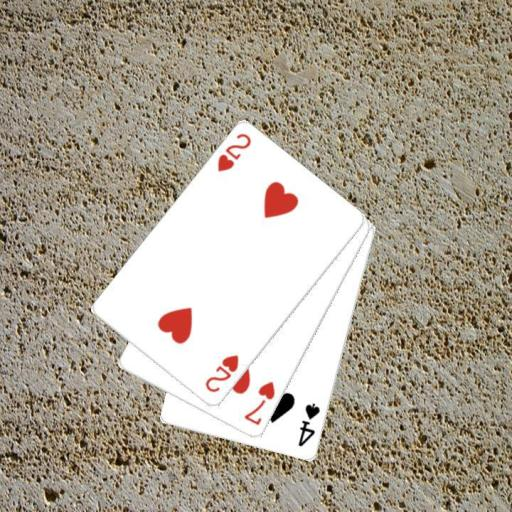2H: (214, 130, 253, 174), (202, 352, 241, 395)
4S: (295, 400, 322, 449)
7H: (240, 379, 277, 428)
